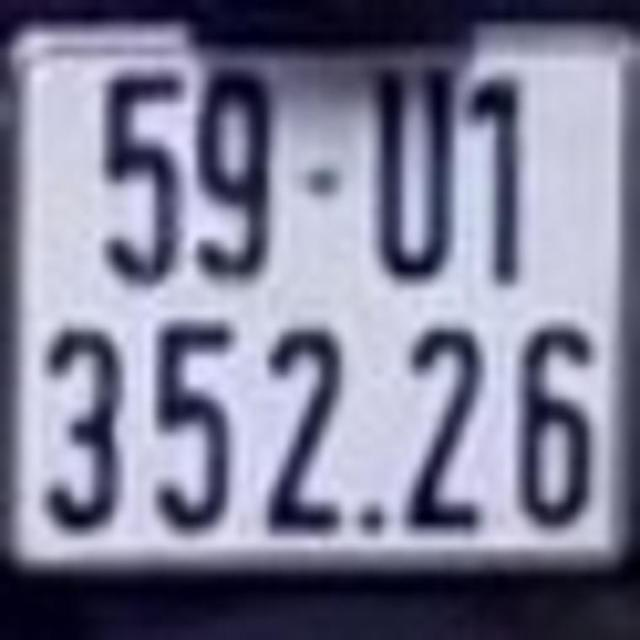1: (467, 70, 528, 284)
2: (402, 319, 486, 532), (263, 320, 344, 535)
3: (39, 321, 124, 534)
5: (98, 67, 187, 285), (151, 314, 235, 533)
6: (516, 317, 598, 530)
9: (193, 65, 273, 282)
U: (369, 63, 461, 283)
